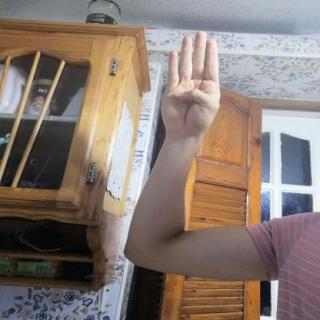KAAF: (152, 24, 228, 138)
